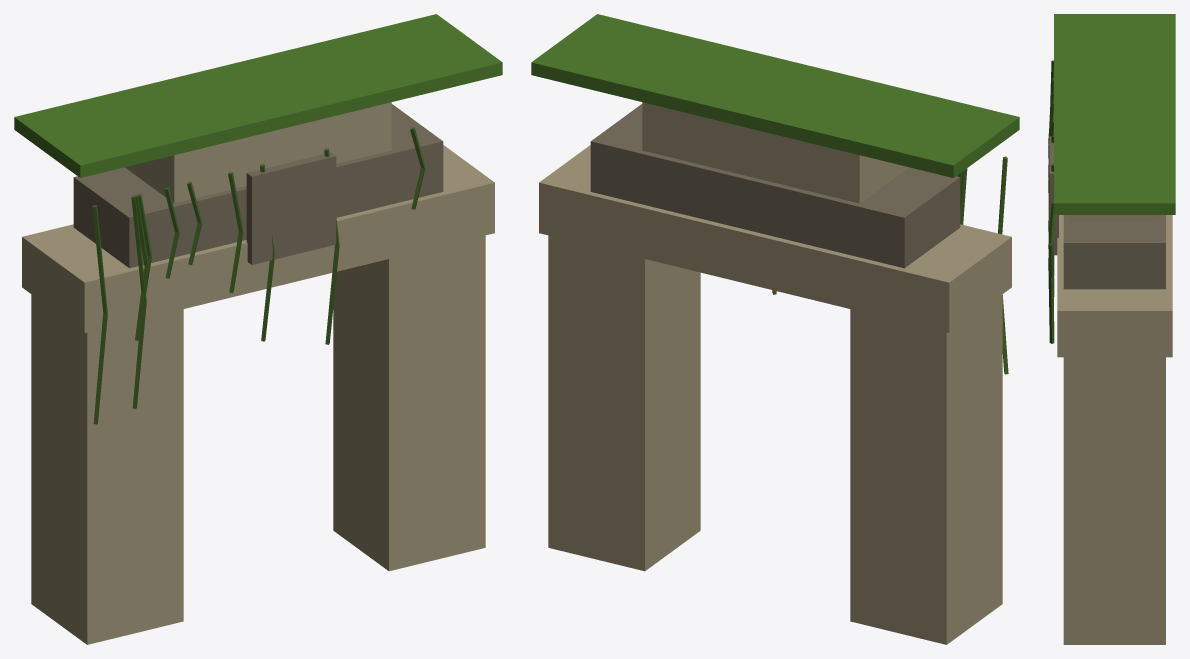
File: temple_gate_large.glb
3 views of the same model, side by side, from view 1: azimuth 30°, elevation 25°; view 2: azimuth 150°, elevation 25°; view 3: azimuth 270°, elevation 25° (orthographic). The views are drawn at different scales.
Parts seen in each view (by area): view 1: stone_temple-col, moss, stone_temple_dark-col, vine; view 2: stone_temple-col, moss, stone_temple_dark-col, vine; view 3: stone_temple-col, moss, stone_temple_dark-col, vine.
Part boxes in pixels (x1,y1,x2,y2): stone_temple-col: (22,102,494,644); moss: (14,14,502,177); stone_temple_dark-col: (73,104,443,268); vine: (92,127,425,424); stone_temple-col: (539,102,1011,644); moss: (531,14,1019,177); stone_temple_dark-col: (590,104,960,268); vine: (772,156,1008,374); stone_temple-col: (1057,215,1172,644); moss: (1054,14,1175,214); stone_temple_dark-col: (1049,136,1165,289); vine: (1048,60,1055,343).
Size of the model in its own units: 7 by 7.7 by 1.99.
